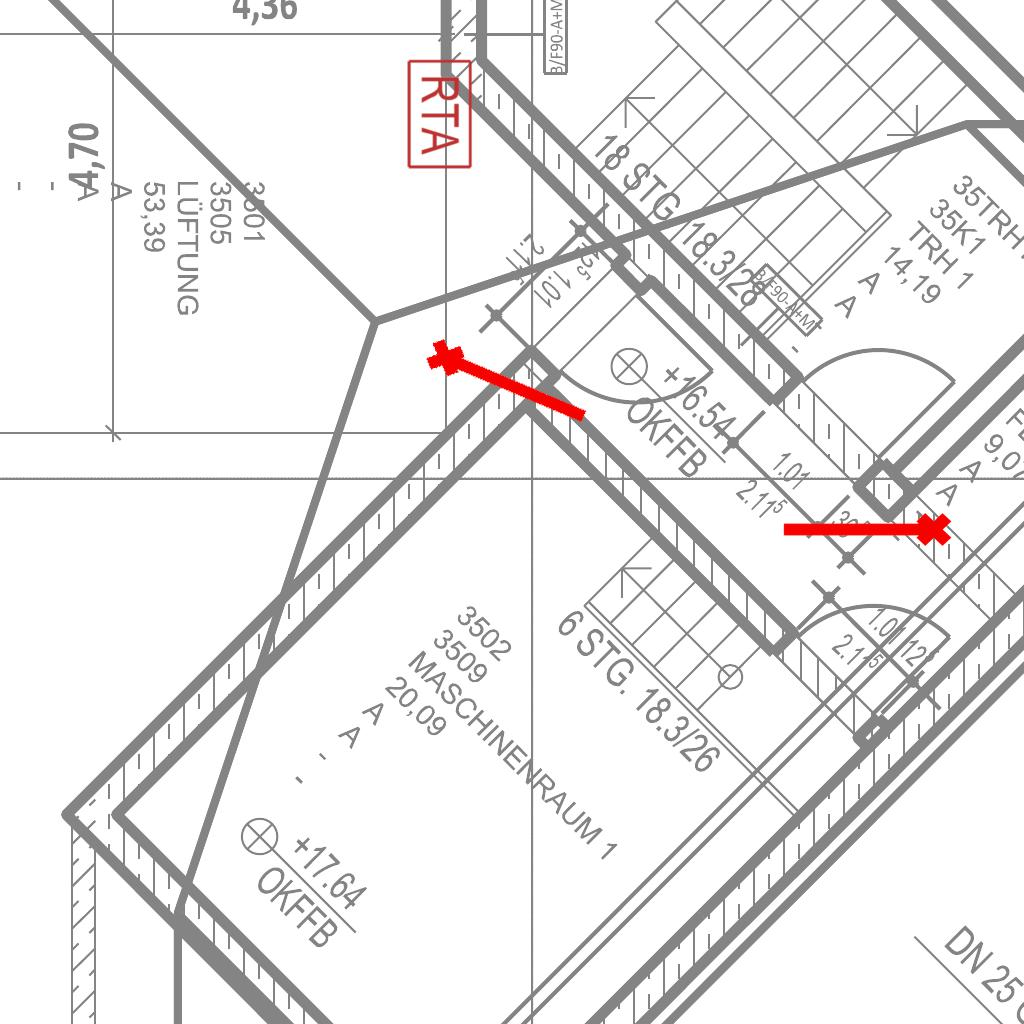ASR_Ansaugoeffnung: (419, 326, 599, 438), (778, 509, 954, 555)
Ruf-und_Abstelltaster: (405, 56, 474, 170)
